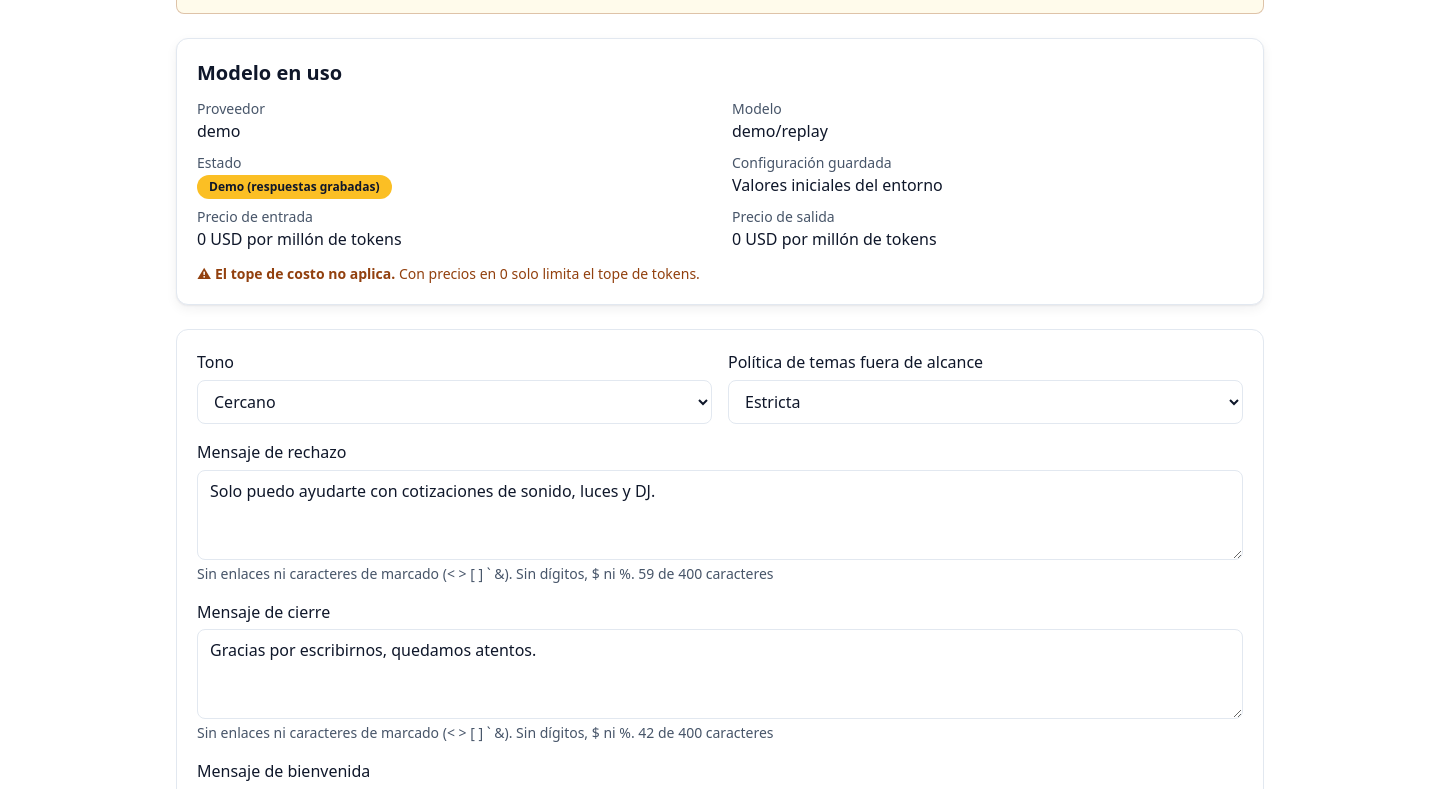
Test: double confirmation › maps a 403 {"detail":"reauth_failed"} answer to a step and a Spanish message
(page scrolled)
Select "Formal" in the dropdown labelled "Tono" at (454, 402), box [197,380,712,424]
(page scrolled)
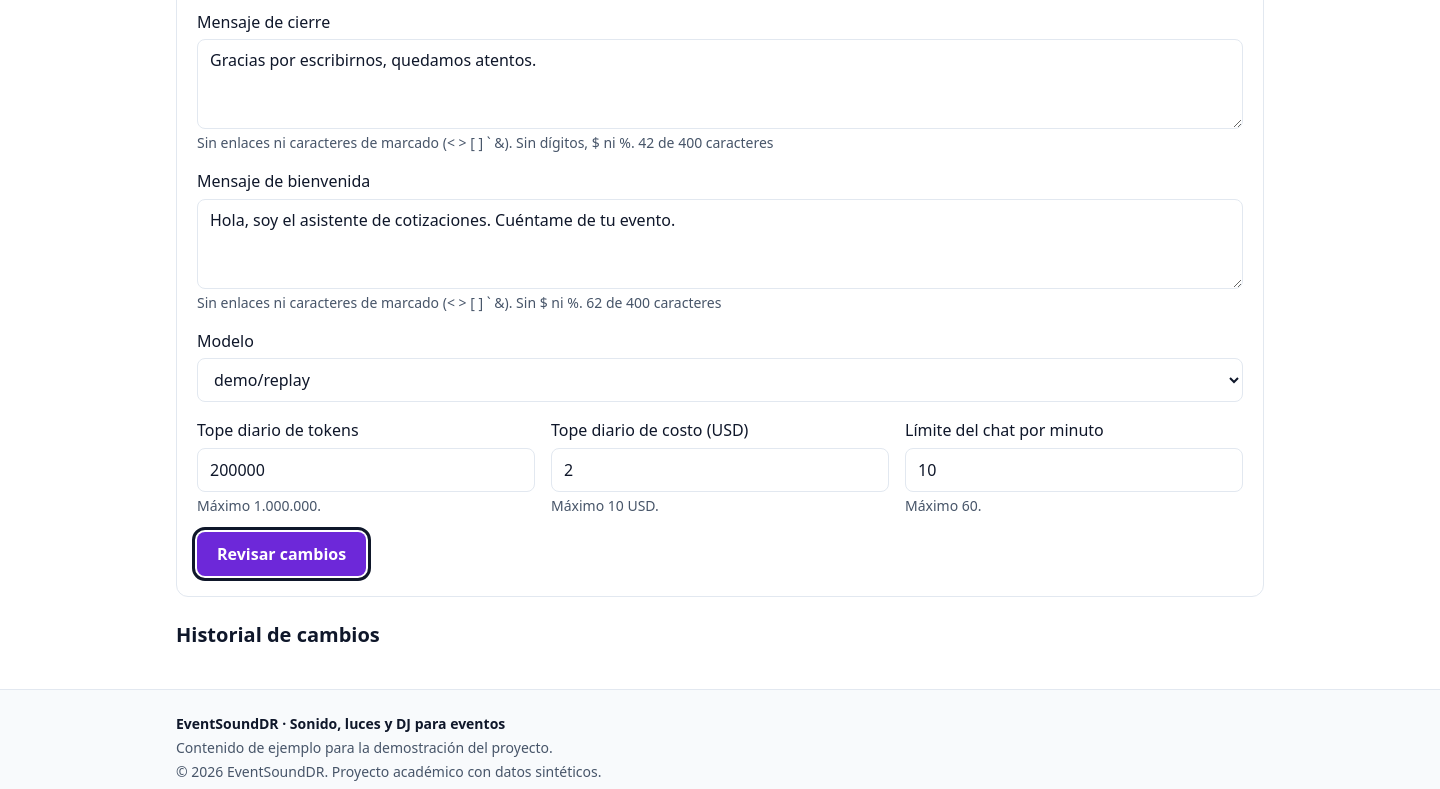
Click the button "Revisar cambios".
click(282, 554)  # box [197,532,366,576]
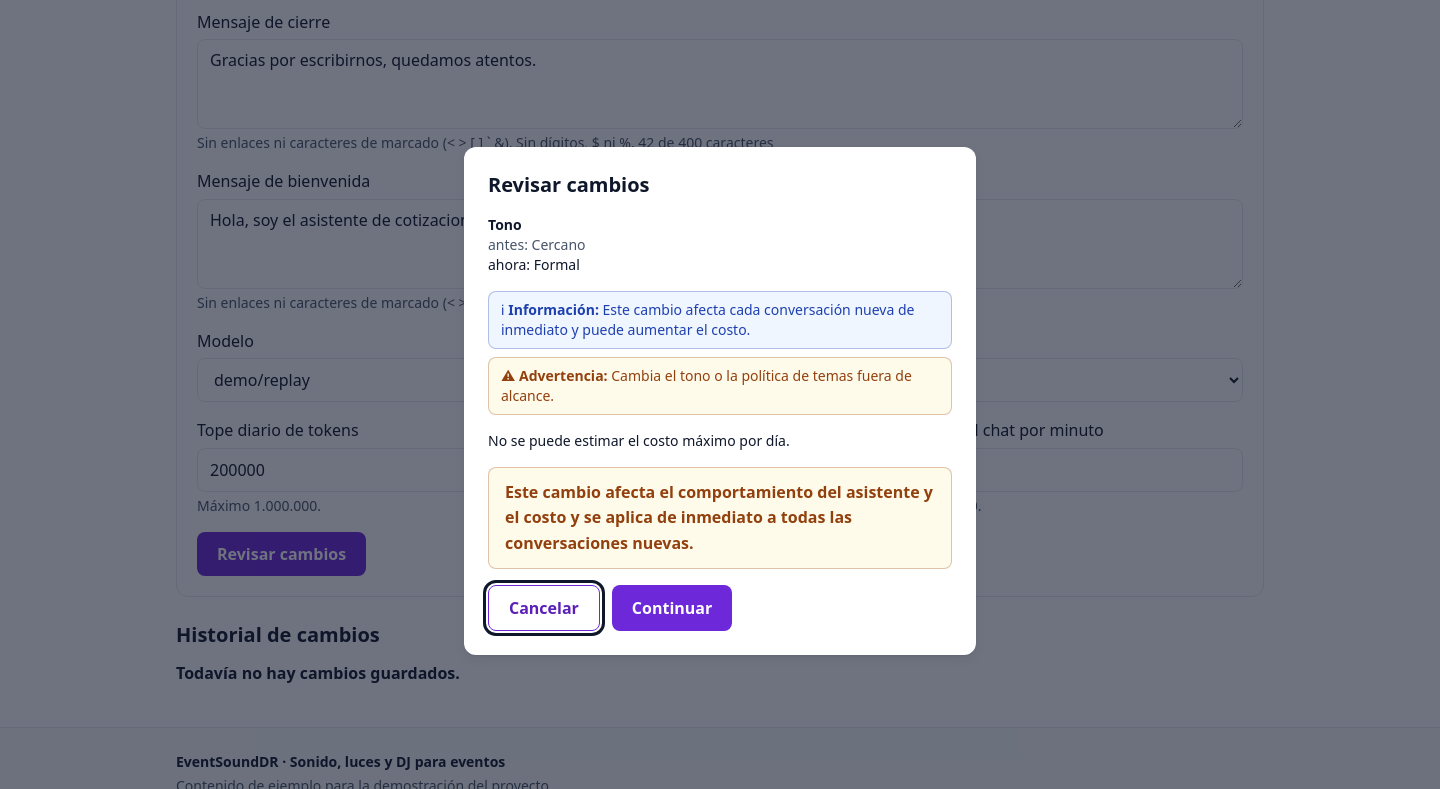
Click the button "Continuar".
click(672, 608)  # box [612,585,732,631]
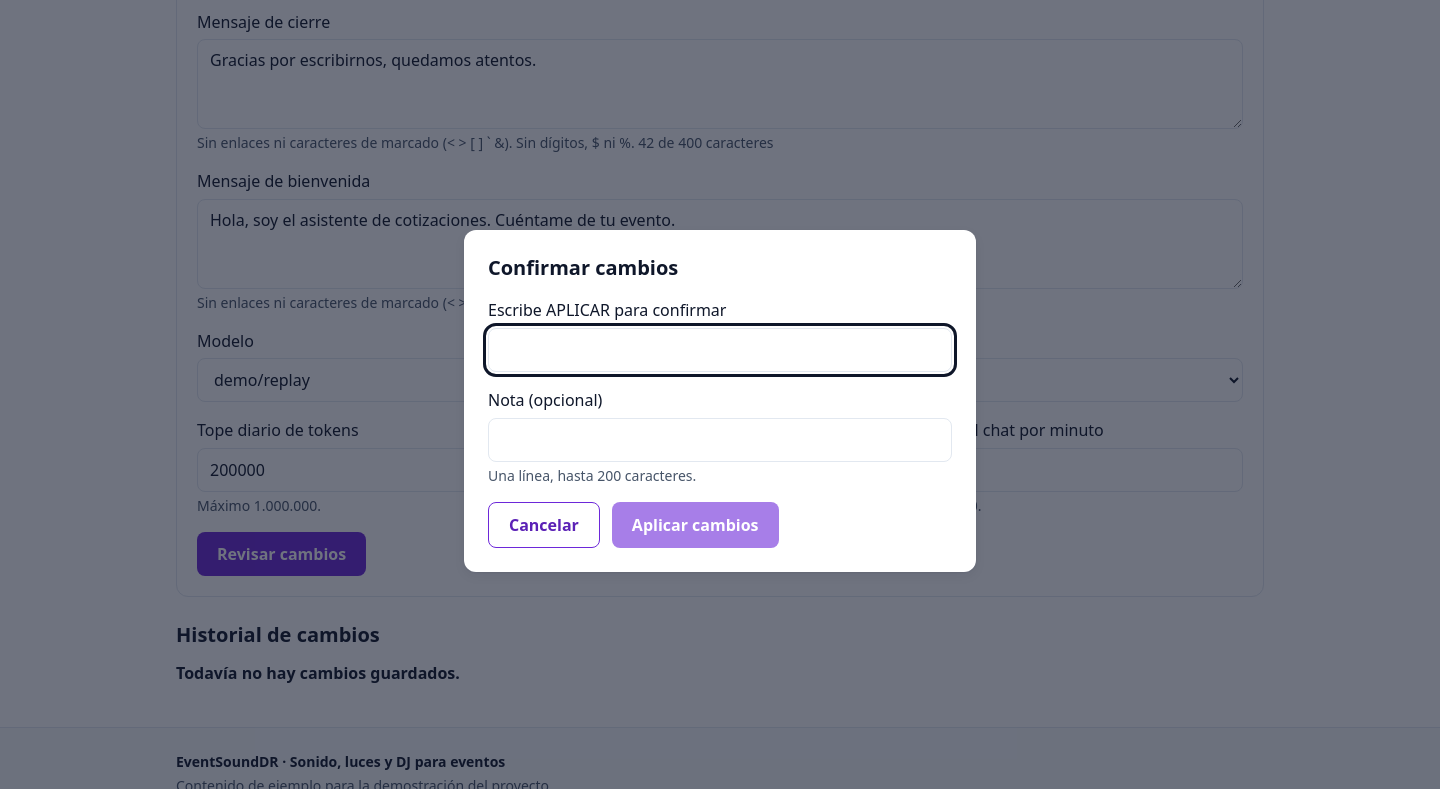
Type "APLICAR" into the field labelled "Escribe APLICAR para confirmar".
click(720, 350); type("APLICAR")  # box [488,328,952,372]
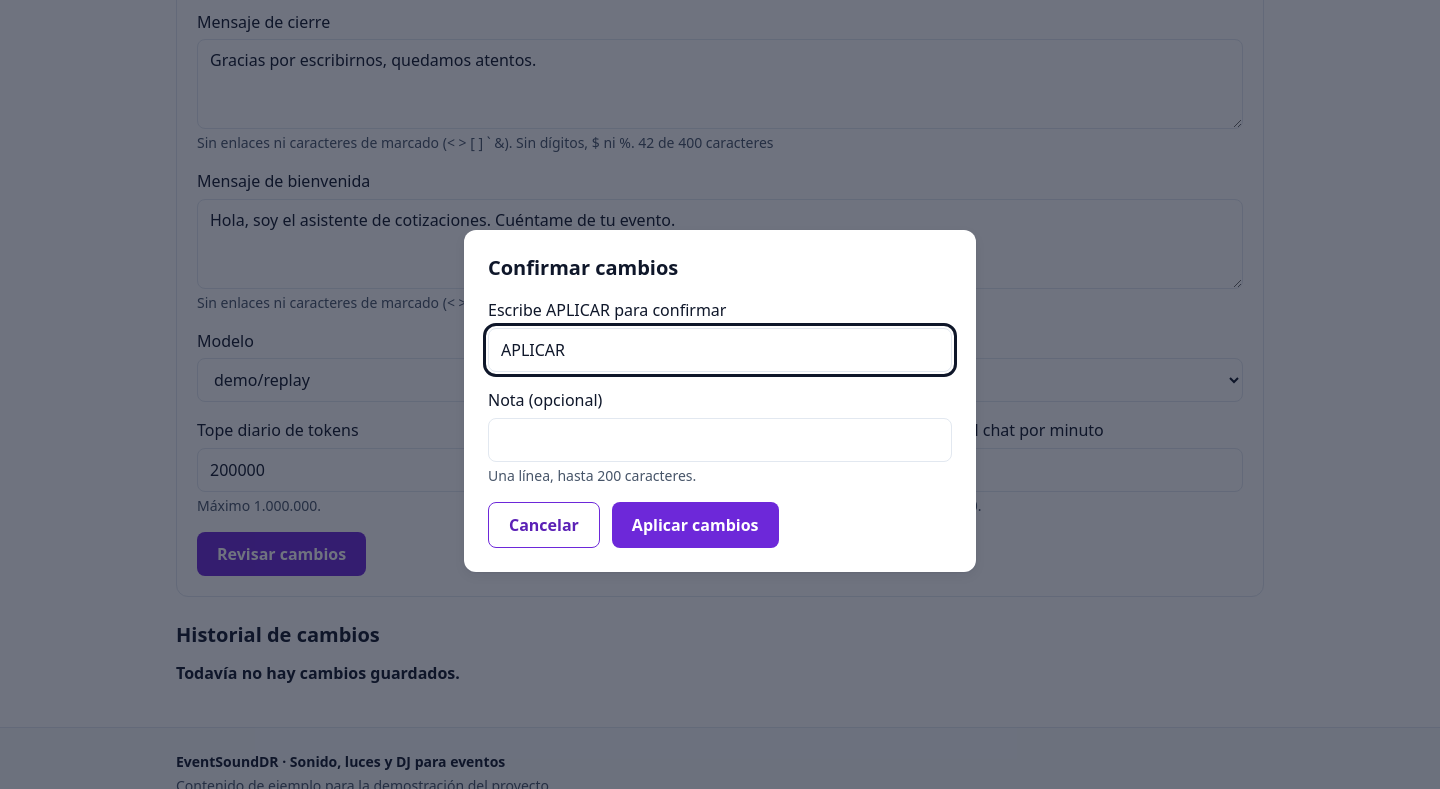
Click the button "Aplicar cambios".
click(695, 525)  # box [612,502,779,548]
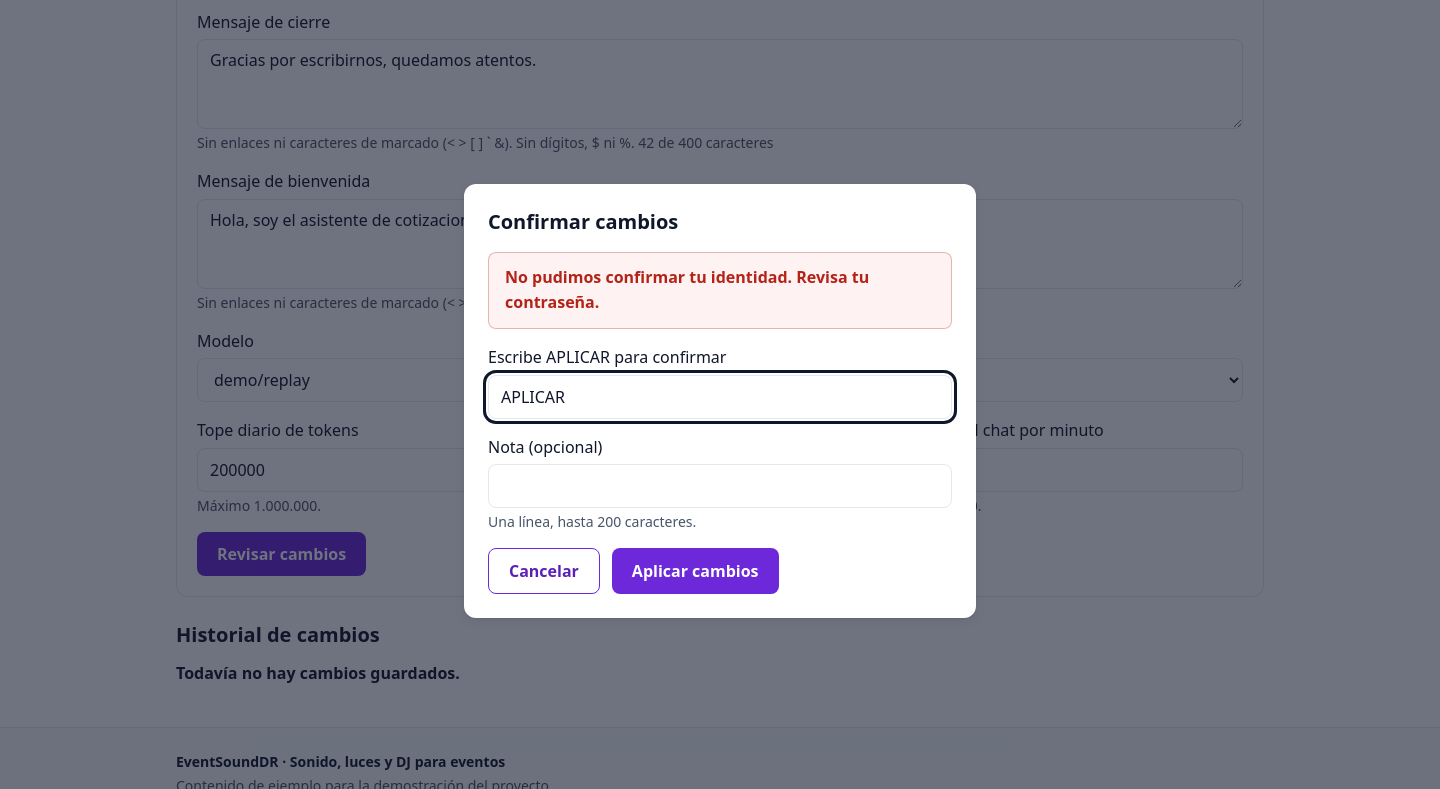
Expected: the button "Aplicar cambios" is shown, [612,548,779,594]
Expected: the message reads "No pudimos confirmar tu identidad. Revisa tu contraseña.", [505,266,869,313]
